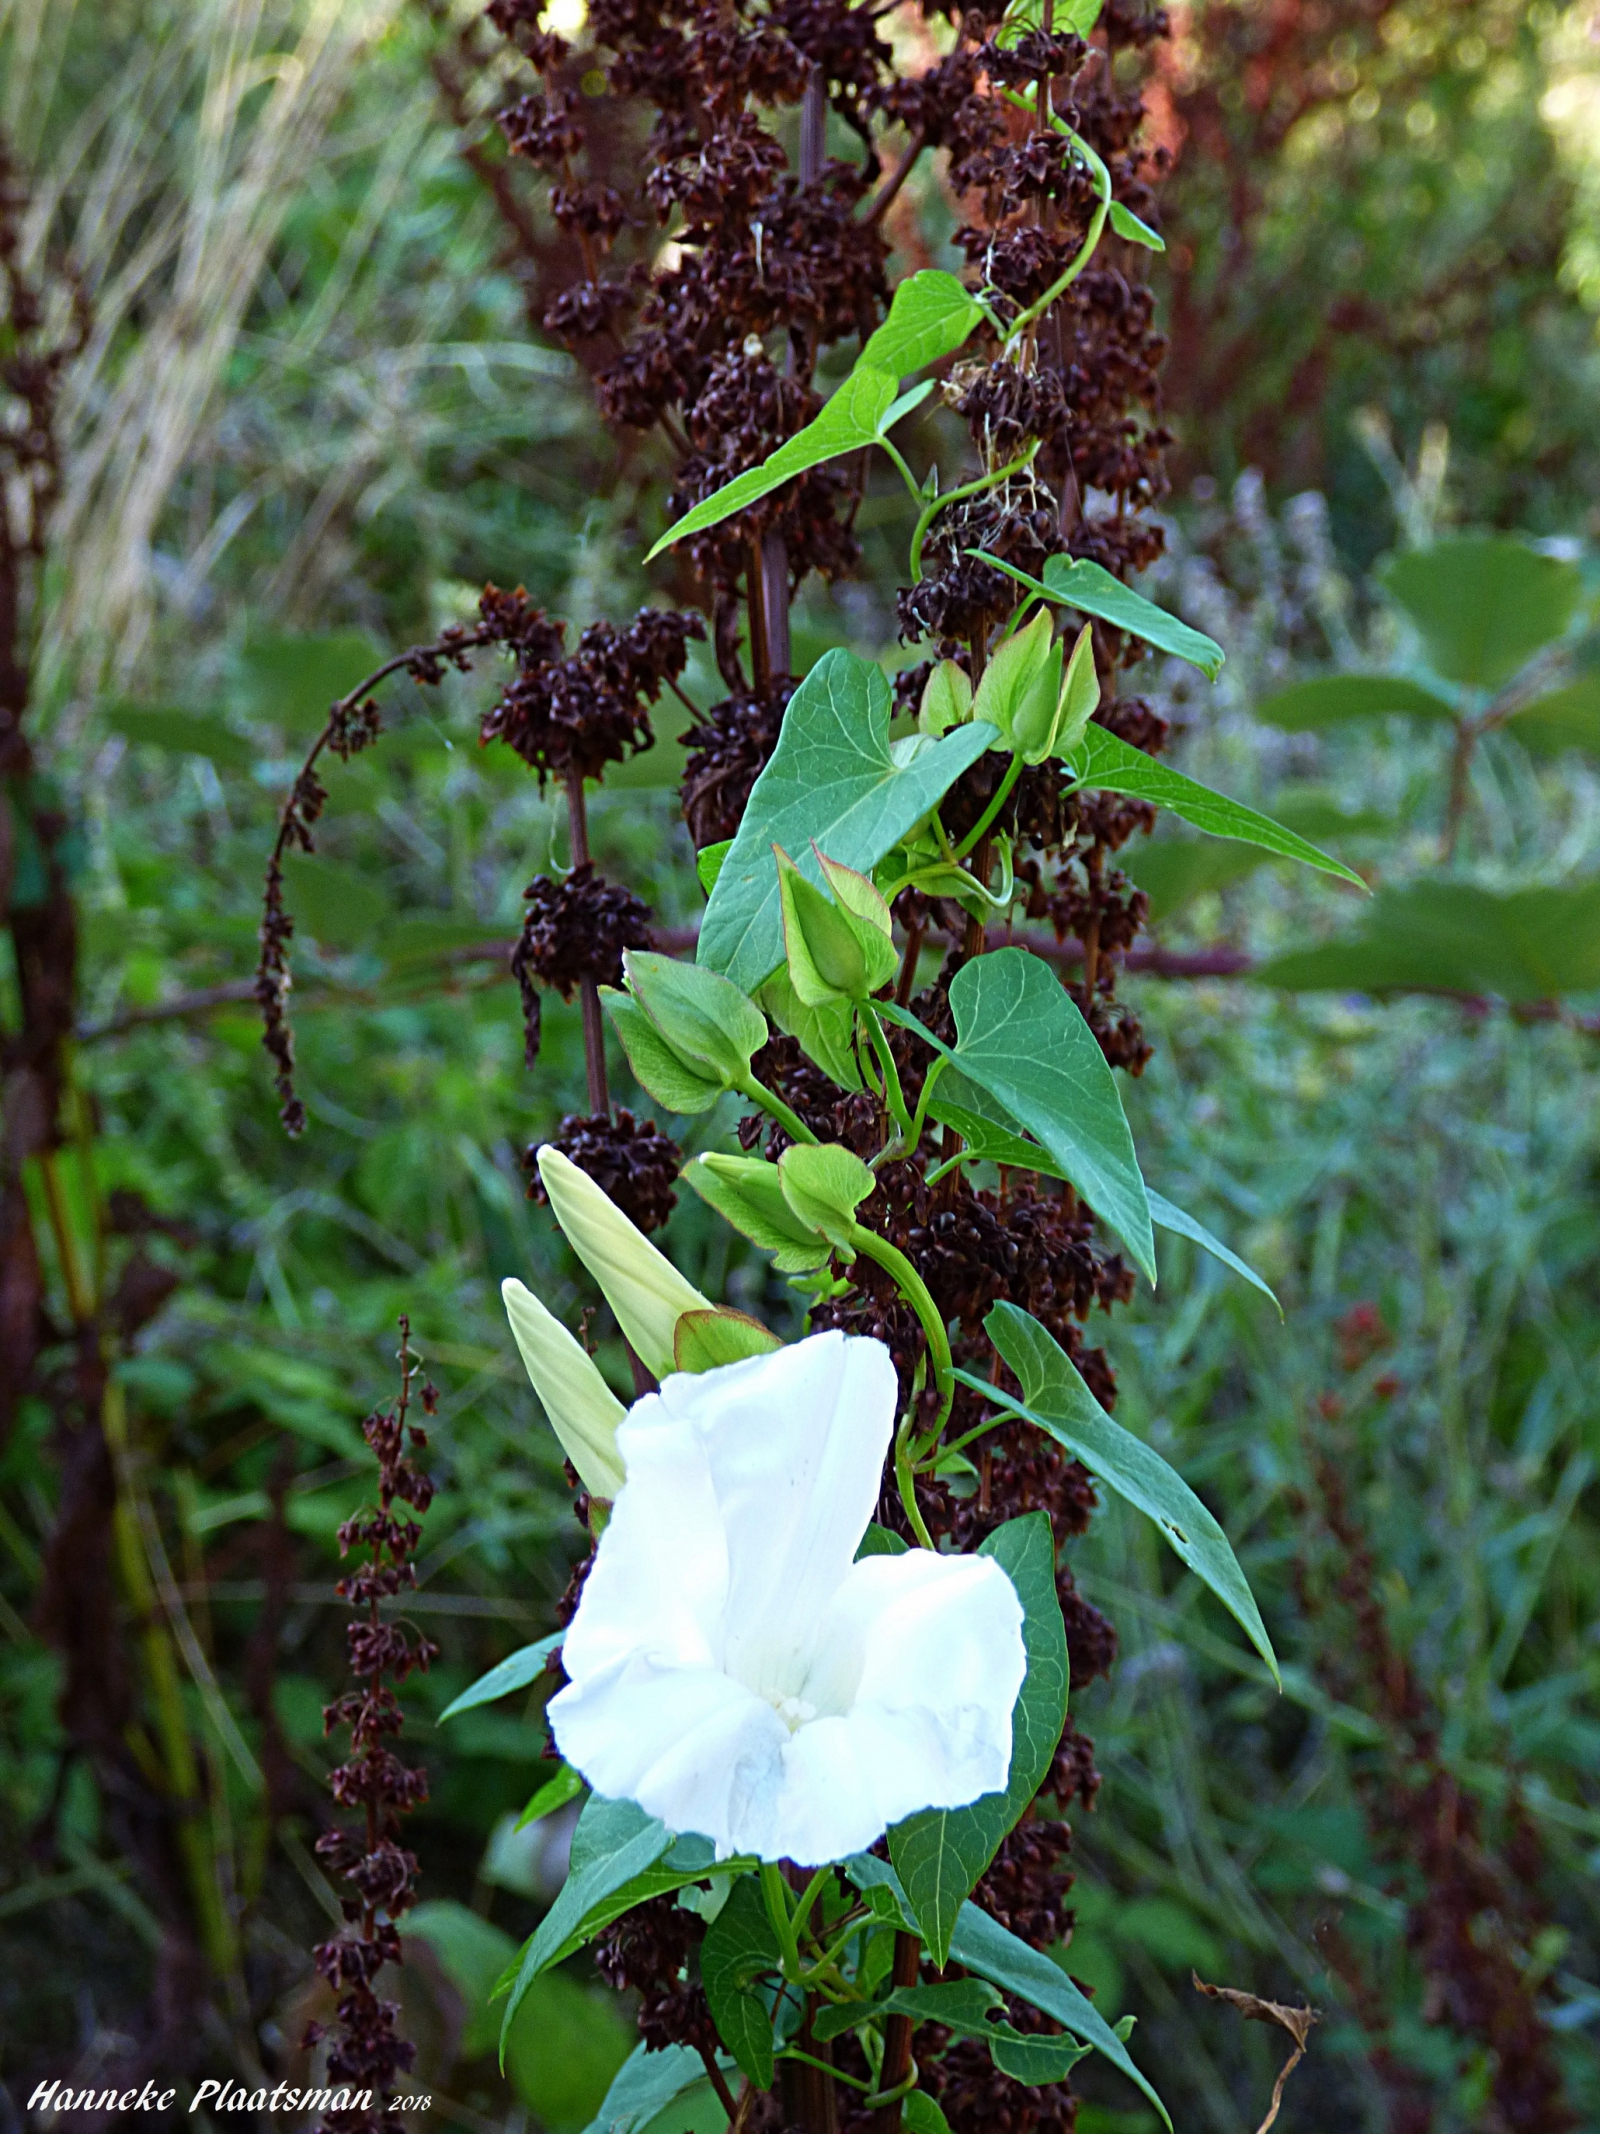haagwinde: (539, 1326, 1035, 1867), (956, 1294, 1282, 1699), (662, 644, 993, 1040), (854, 948, 1220, 1304), (625, 259, 1007, 548)
